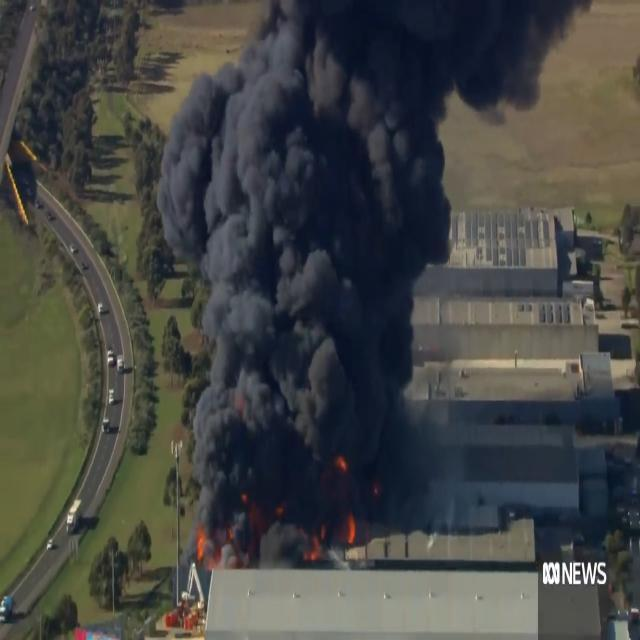fire: (334, 440, 354, 480), (348, 510, 358, 546), (198, 524, 208, 556)
